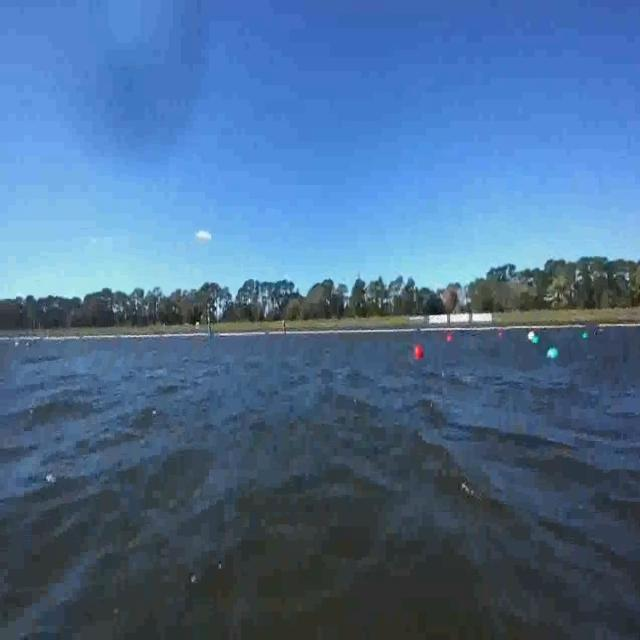green-buoy: (548, 347, 560, 360), (583, 329, 589, 343), (534, 336, 542, 346)
red-buoy: (415, 344, 424, 361), (446, 329, 454, 347)
